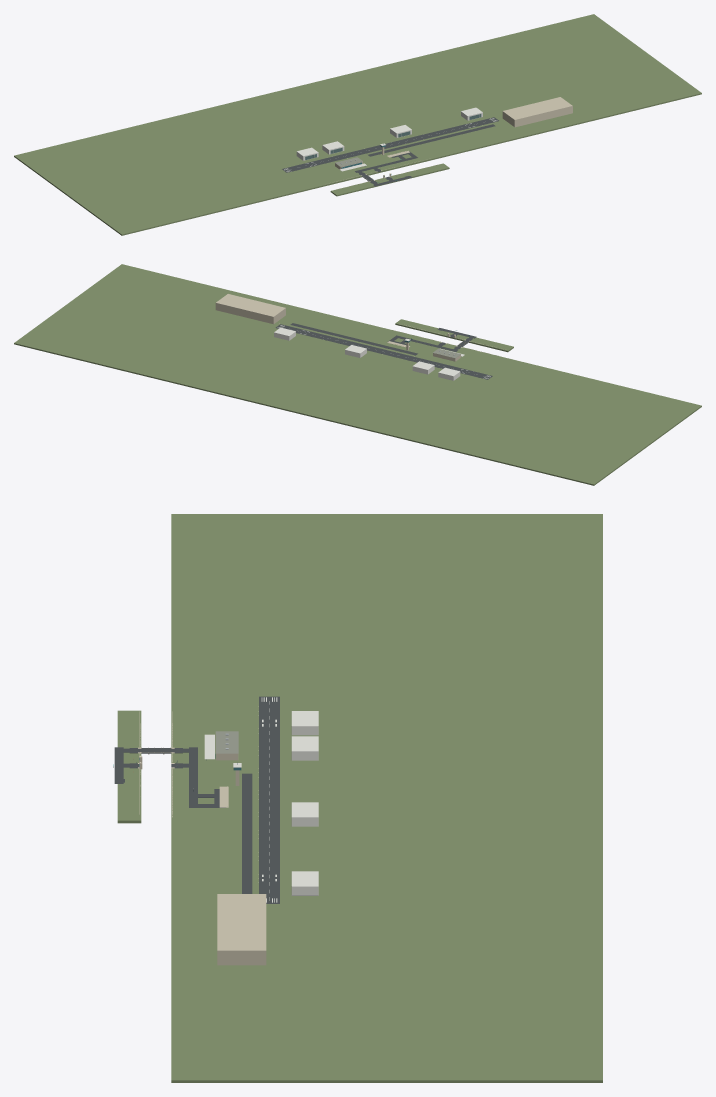
The model's file is waterfront-s05.glb.
The picture shows the model from 3 angles, top to bottom: view 1: azimuth 30°, elevation 25°; view 2: azimuth 150°, elevation 25°; view 3: azimuth 270°, elevation 25°; orthographic projection. The views are drawn at different scales.
Visible parts, largest first — view 1: waterfront_grass, waterfront_asphalt, waterfront_stone, waterfront_white; view 2: waterfront_grass, waterfront_asphalt, waterfront_stone, waterfront_white; view 3: waterfront_grass, waterfront_asphalt, waterfront_stone, waterfront_white.
Boxes of the visible parts, x1,y1,x2,y2 form: waterfront_grass: [14, 14, 701, 235]; waterfront_asphalt: [282, 117, 498, 186]; waterfront_stone: [325, 97, 572, 189]; waterfront_white: [284, 107, 497, 171]; waterfront_grass: [14, 264, 701, 485]; waterfront_asphalt: [275, 323, 492, 379]; waterfront_stone: [215, 294, 505, 361]; waterfront_white: [274, 325, 490, 380]; waterfront_grass: [117, 514, 602, 1082]; waterfront_asphalt: [114, 696, 279, 903]; waterfront_stone: [138, 711, 266, 965]; waterfront_white: [204, 697, 318, 902].
Size of the model in its own units: 1800 by 37.9 by 658.
